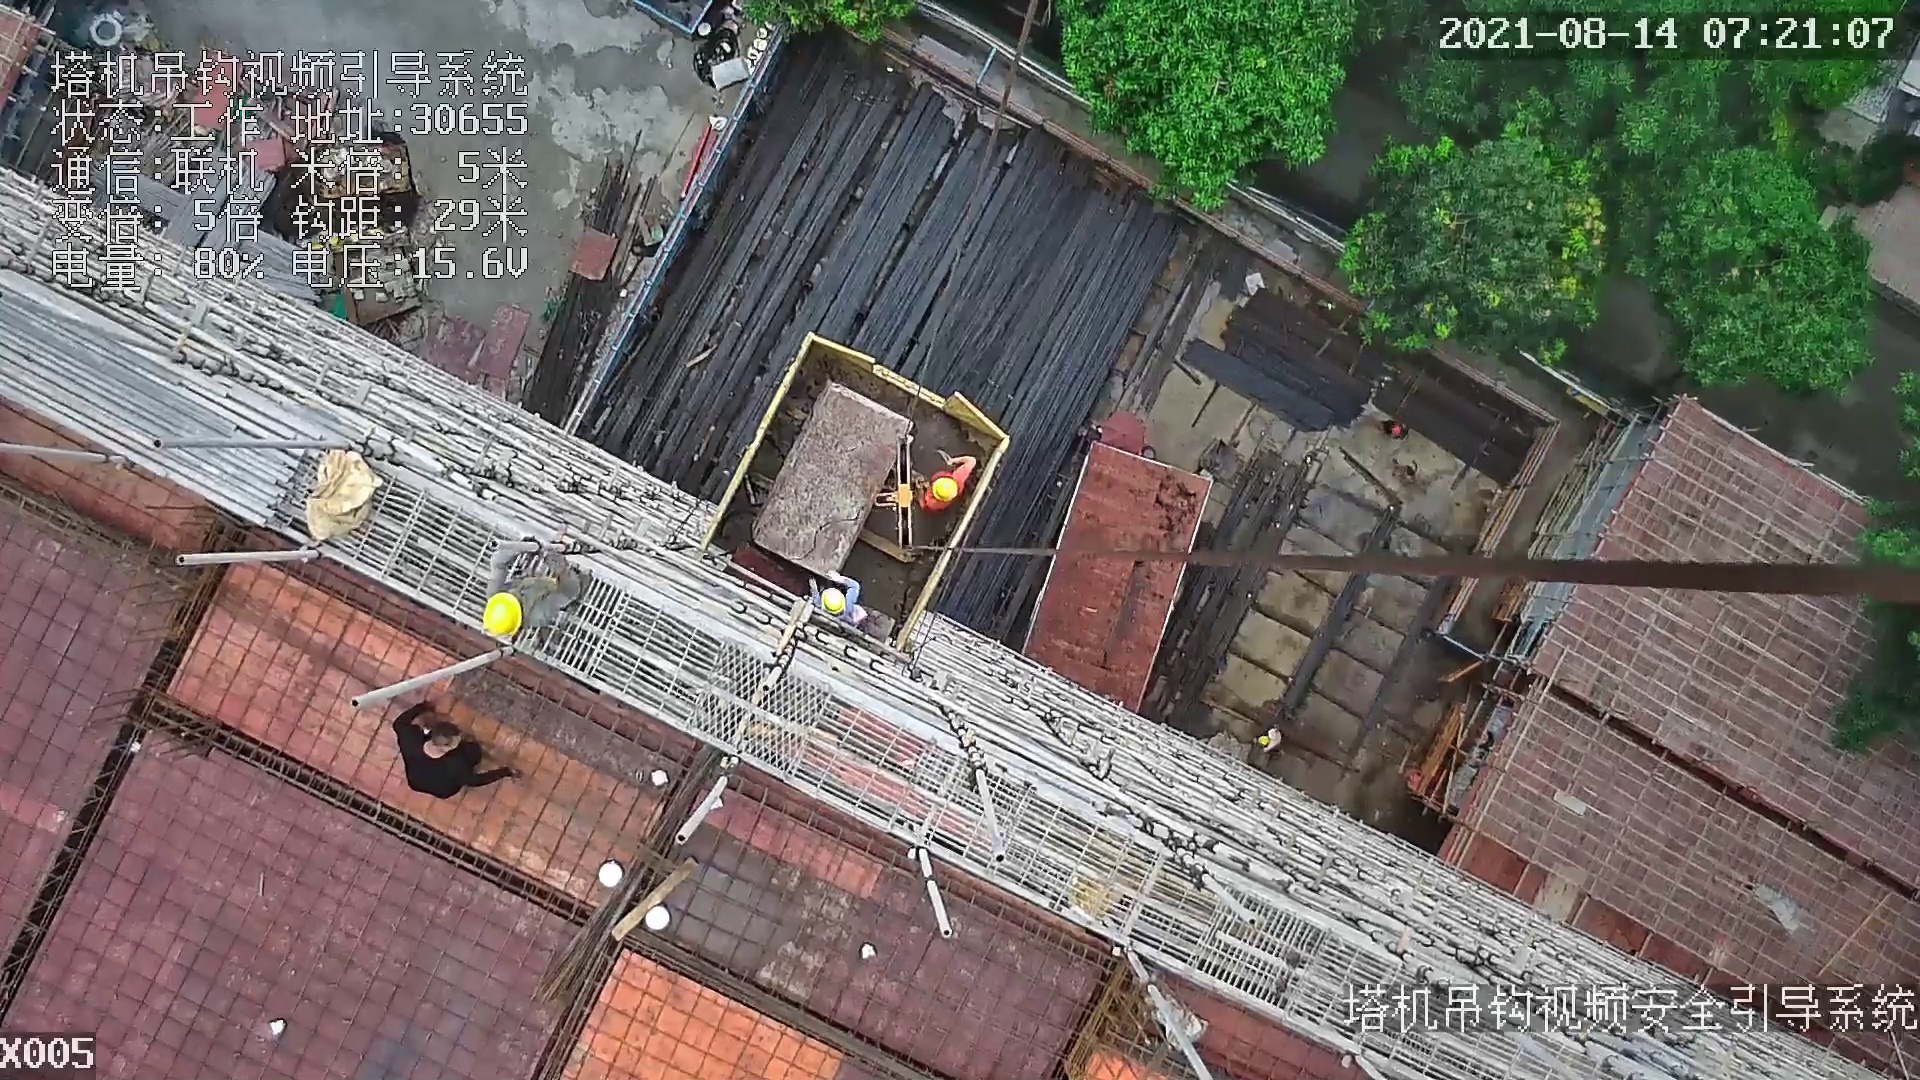helmet: (482, 591, 523, 640), (817, 584, 845, 620), (933, 476, 958, 507)
hook: (869, 430, 936, 562)
person: (386, 696, 527, 792), (488, 540, 605, 649), (803, 578, 885, 632), (922, 449, 976, 513), (1240, 710, 1292, 754), (1379, 415, 1415, 447), (1387, 464, 1417, 485)
